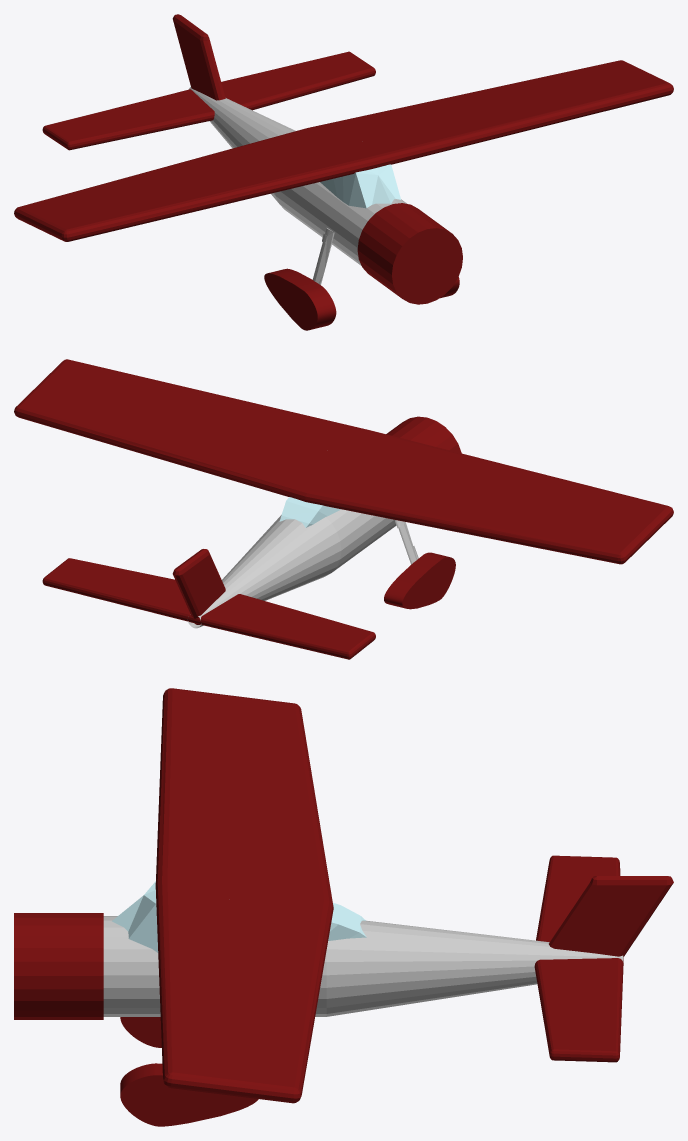
The model's file is aero.dae.
The picture shows the model from 3 angles, top to bottom: view 1: azimuth 30°, elevation 25°; view 2: azimuth 150°, elevation 25°; view 3: azimuth 270°, elevation 25°; orthographic projection. The views are drawn at different scales.
Visible parts, largest first — view 1: Wing (×2), Cylinder (×2), Extrude_NURBS.1, Cube, Obj, leg11; view 2: Wing (×2), Cylinder (×2), Extrude_NURBS.1, Cube, Obj; view 3: Wing (×2), Cylinder (×2), Cube, Extrude_NURBS, Obj, Extrude_NURBS.1.
Part boxes in pixels (box(x1,y1,x2,y2)): Wing (×2): box(14, 51, 673, 241); Cylinder (×2): box(189, 87, 462, 304); Extrude_NURBS.1: box(264, 268, 336, 330); Cube: box(172, 14, 225, 100); Obj: box(320, 164, 400, 208); leg11: box(312, 228, 334, 284); Wing (×2): box(14, 359, 673, 659); Cylinder (×2): box(188, 416, 461, 628); Extrude_NURBS.1: box(384, 552, 455, 609); Cube: box(172, 549, 225, 624); Obj: box(279, 497, 340, 527); Wing (×2): box(155, 688, 623, 1103); Cylinder (×2): box(14, 913, 623, 1019); Cube: box(549, 876, 673, 957); Extrude_NURBS: box(120, 1063, 258, 1126); Obj: box(112, 881, 366, 952); Extrude_NURBS.1: box(120, 1017, 161, 1047).
Bounding box in the file's own units: 33 × 8.05 × 23.58.
